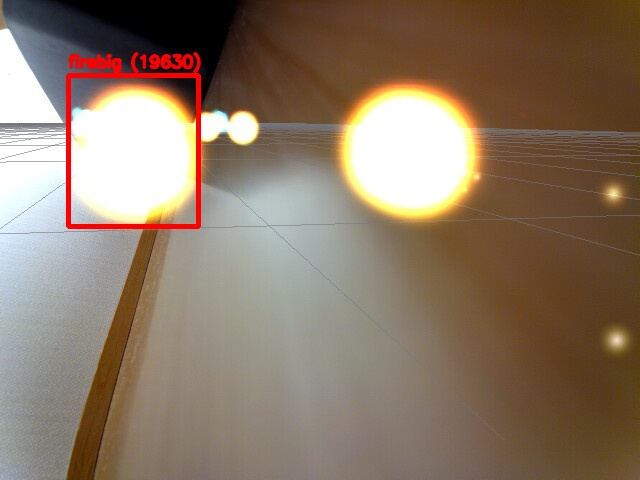firebig: (68, 75, 198, 226)
